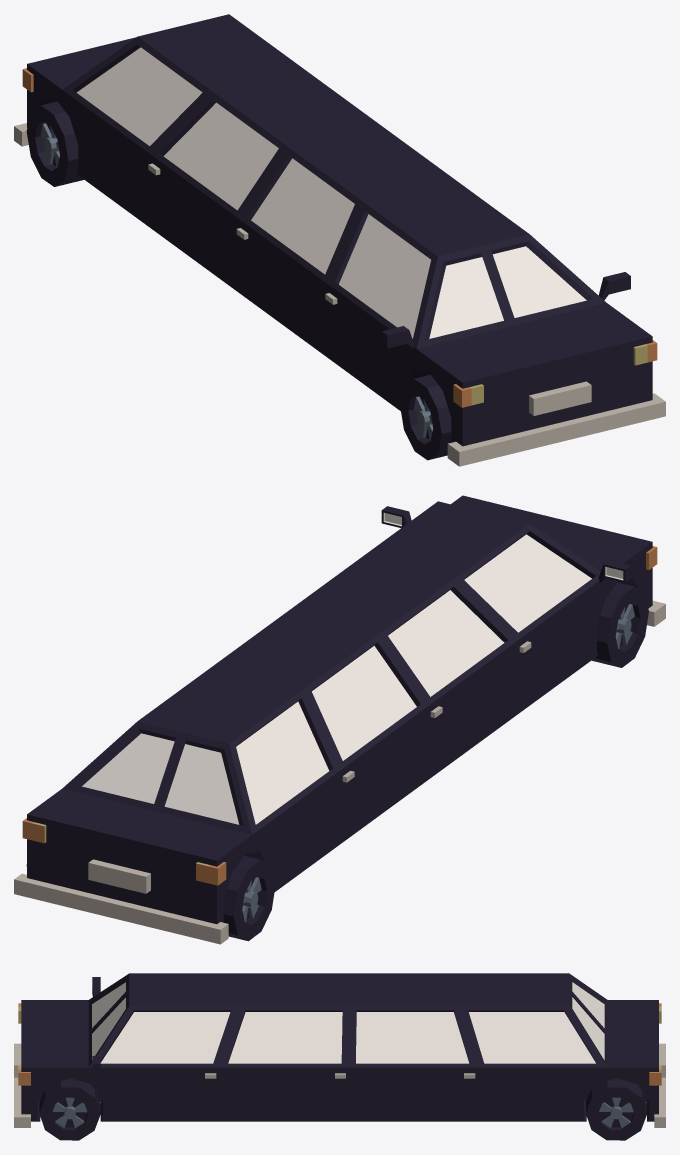
The model's file is limousine.fbx.
The picture shows the model from 3 angles, top to bottom: view 1: azimuth 30°, elevation 25°; view 2: azimuth 150°, elevation 25°; view 3: azimuth 270°, elevation 25°; orthographic projection. The views are drawn at different scales.
Parts seen in each view (by area): view 1: car 8; view 2: car 8; view 3: car 8.
Boxes of the visible parts, x1,y1,x2,y2 form: car 8: (14, 14, 665, 466); car 8: (14, 495, 665, 944); car 8: (14, 973, 665, 1140).
Bounding box in the file's own units: 235 × 144 × 746.
